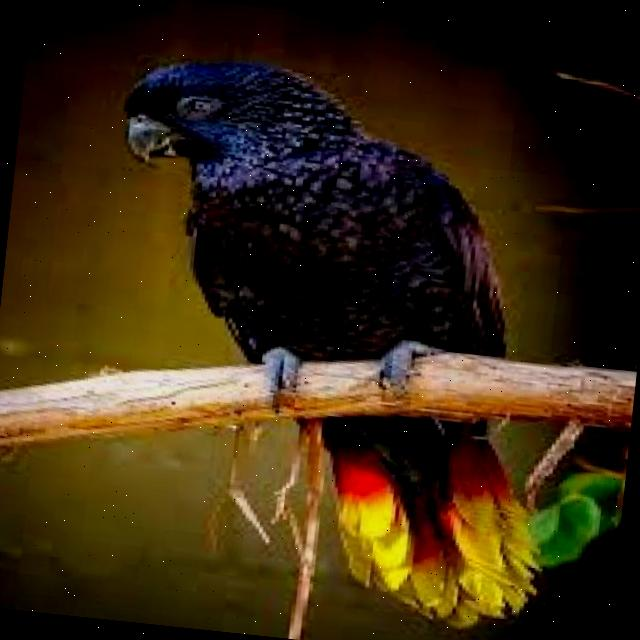Nuri Hitam: (74, 13, 585, 640)
